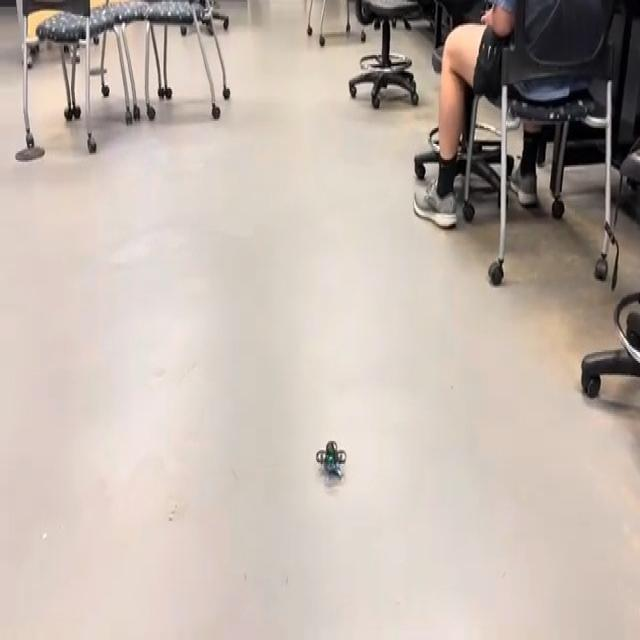drone: (300, 422, 358, 502)
